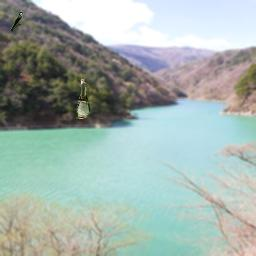Cuckoo: (74, 79, 90, 119)
Swallow: (10, 10, 24, 32)
